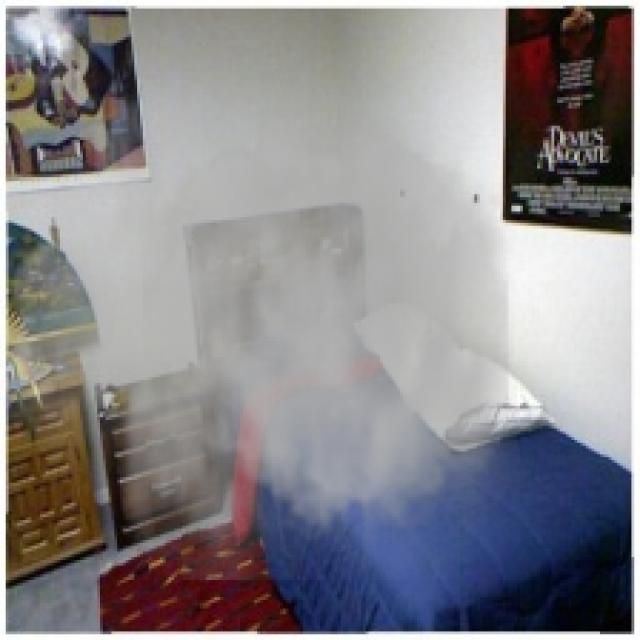smoke: (6, 26, 540, 580)
